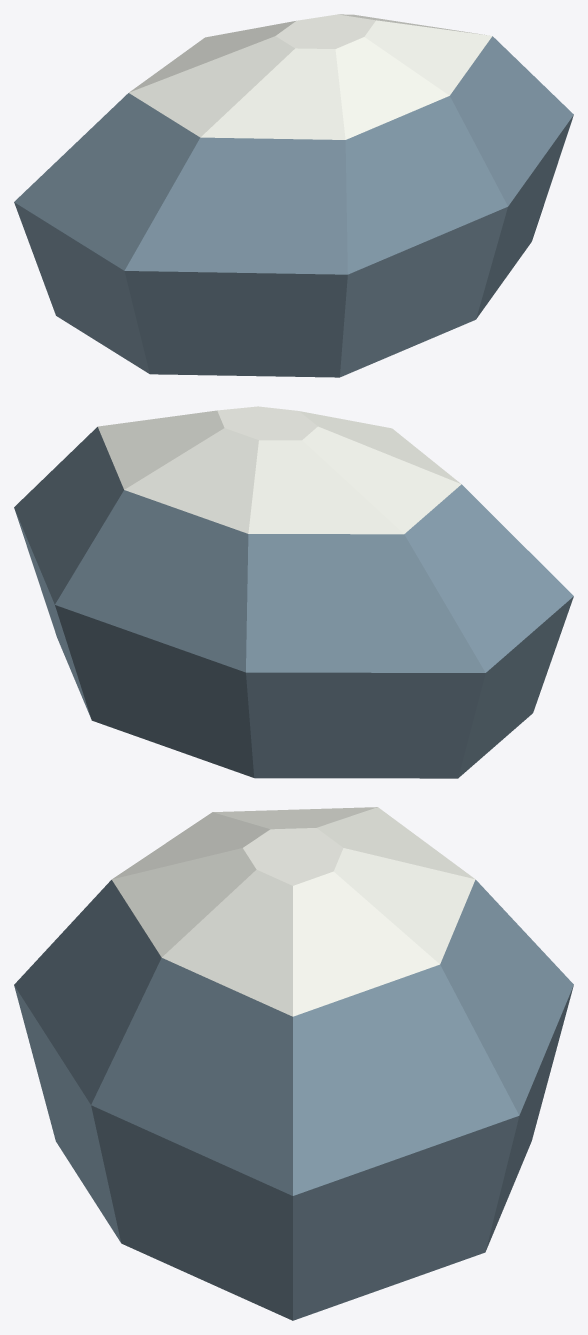
The model's file is granite-slab.glb.
The picture shows the model from 3 angles, top to bottom: view 1: azimuth 30°, elevation 25°; view 2: azimuth 150°, elevation 25°; view 3: azimuth 270°, elevation 25°; orthographic projection. The views are drawn at different scales.
Parts seen in each view (by area): view 1: granite-slab; view 2: granite-slab; view 3: granite-slab.
Boxes of the visible parts, x1,y1,x2,y2 form: granite-slab: (14, 14, 573, 377); granite-slab: (14, 406, 573, 778); granite-slab: (14, 807, 573, 1320).
Size of the model in its own units: 3.7 by 1.8 by 2.72.
